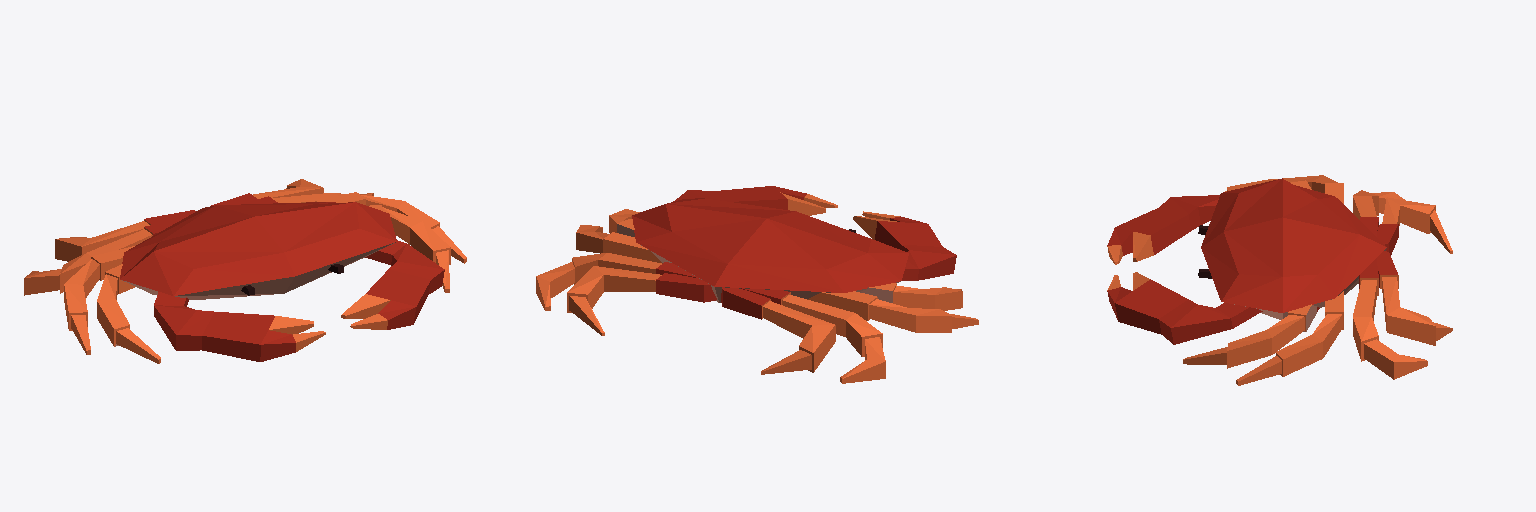
3 renders of one model, left to right at view 1: azimuth 30°, elevation 25°; view 2: azimuth 150°, elevation 25°; view 3: azimuth 270°, elevation 25°, orthographic.
Parts seen in each view (by area): view 1: Geo_Crab; view 2: Geo_Crab; view 3: Geo_Crab.
Part boxes in pixels (x1,y1,x2,y2): Geo_Crab: (24, 179, 466, 363); Geo_Crab: (536, 186, 978, 383); Geo_Crab: (1107, 175, 1452, 385).
Size of the model in its own units: 100 by 19.42 by 78.77.
Materials: 1 (1 with a texture image).